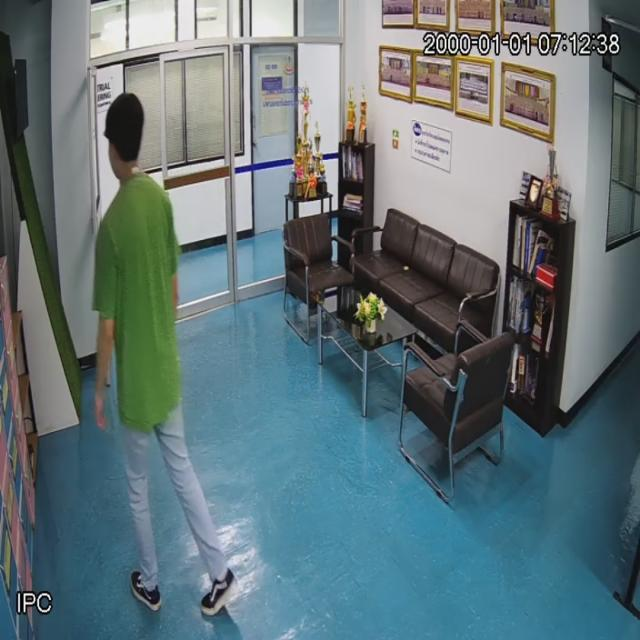normal: (89, 94, 210, 617)
